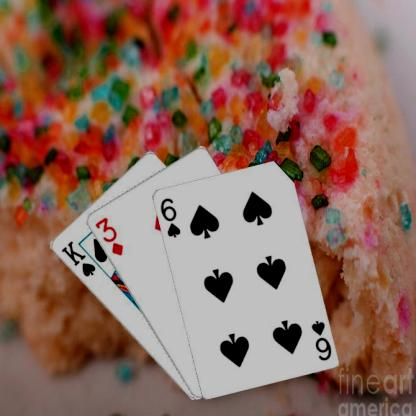3D: (92, 214, 124, 257)
6S: (157, 195, 181, 239), (308, 318, 332, 362)
KS: (58, 239, 97, 278)
